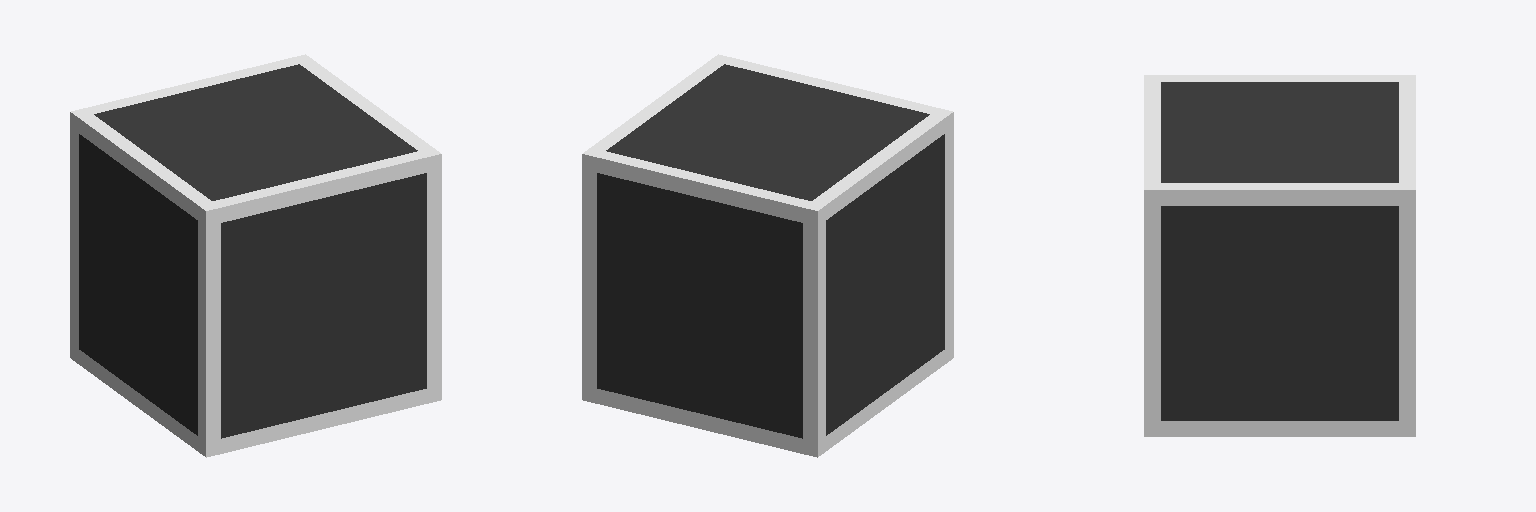
The picture shows the model from 3 angles: view 1: azimuth 30°, elevation 25°; view 2: azimuth 150°, elevation 25°; view 3: azimuth 270°, elevation 25°; orthographic projection.
Parts seen in each view (by area): view 1: Cube; view 2: Cube; view 3: Cube.
Boxes of the visible parts, <box> form: Cube: <box>70,54,441,457</box>; Cube: <box>582,54,953,457</box>; Cube: <box>1144,75,1415,436</box>.
Bounding box in the file's own units: 2 × 2 × 2.
1 materials, 1 textured.